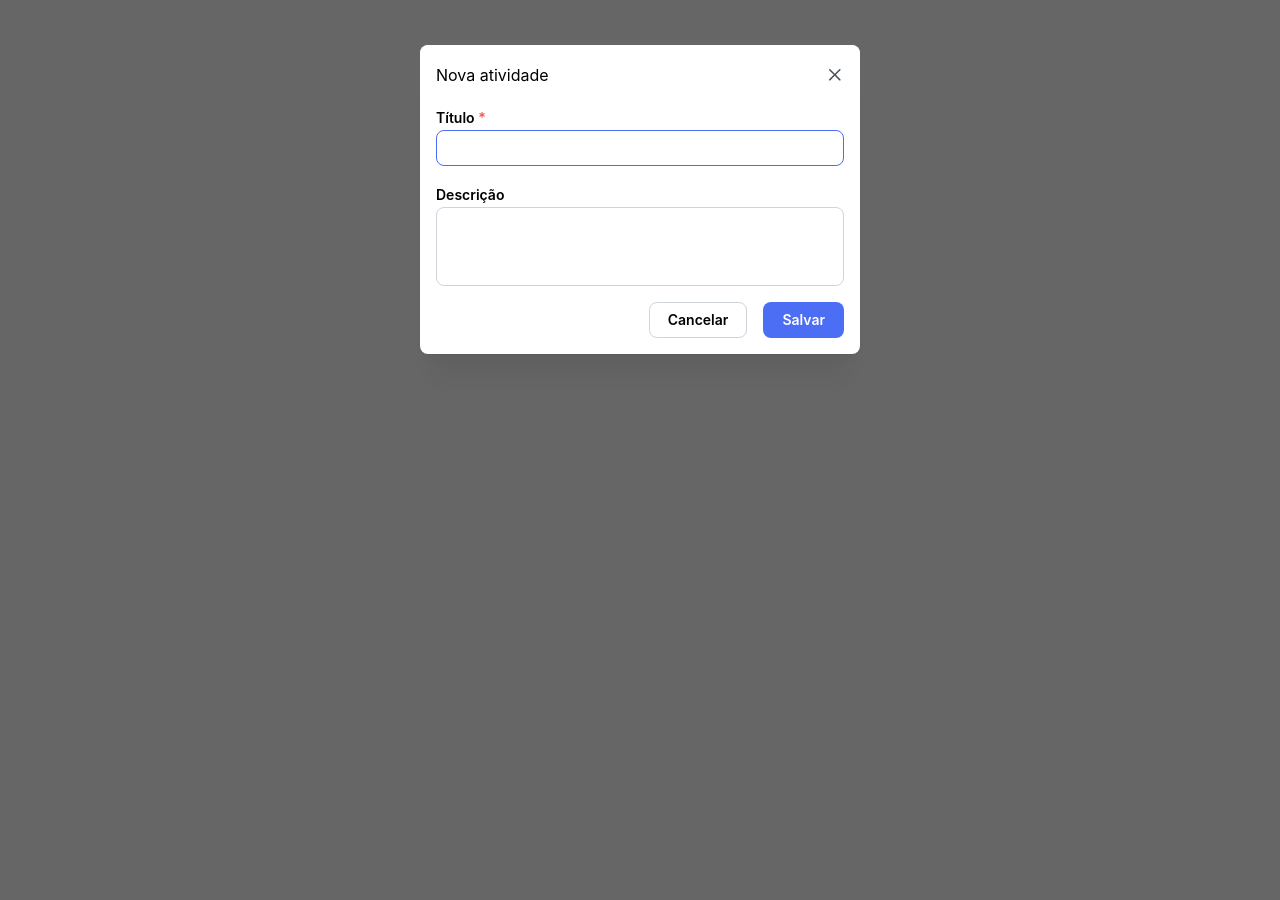
it: TodoFormModal › não envia a requisição e mostra o erro quando o título está vazio
Click the button "Salvar".
click(804, 320)  # box [763, 302, 844, 338]
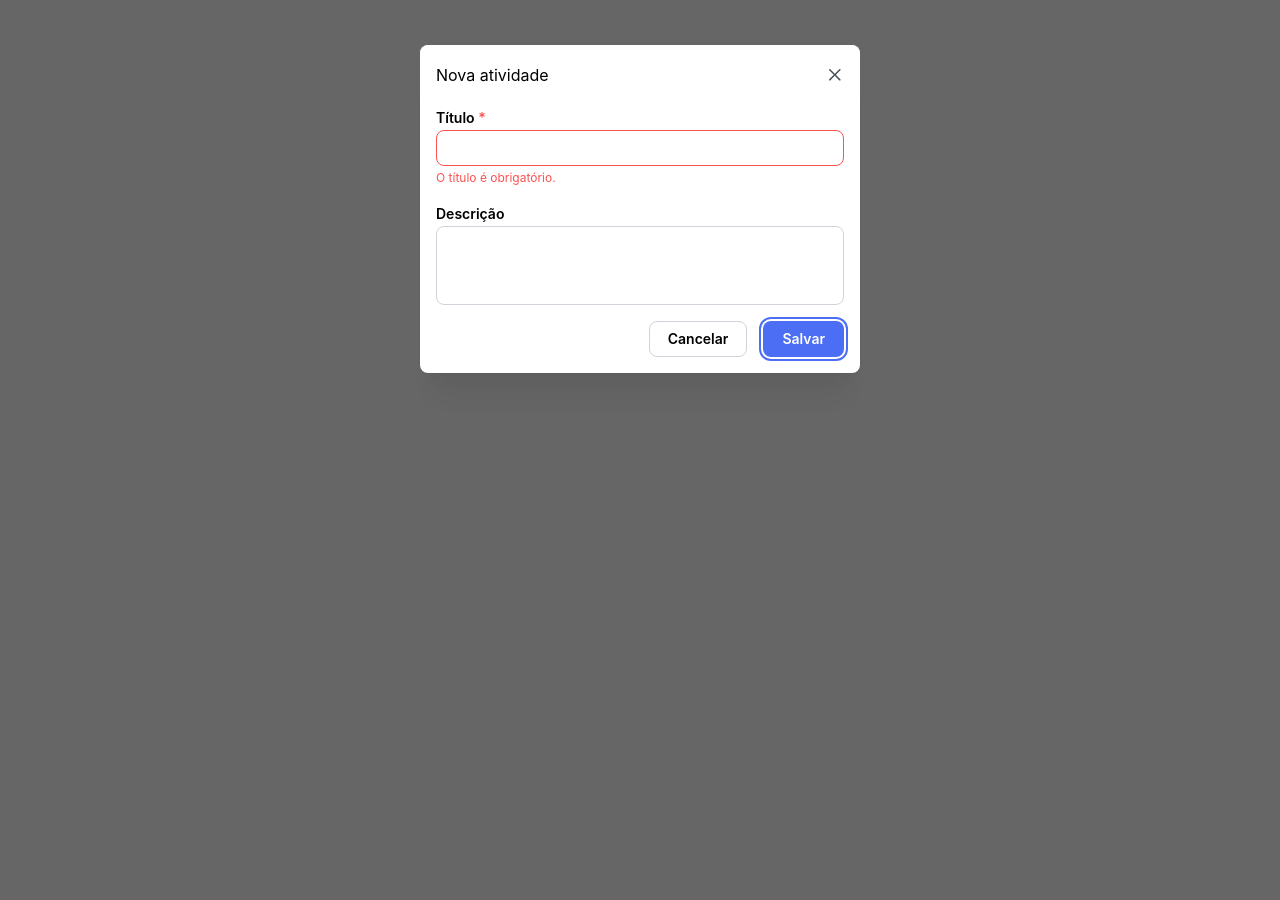
expect the text "O título é obrigatório." is shown: met, box [436, 170, 556, 185]
